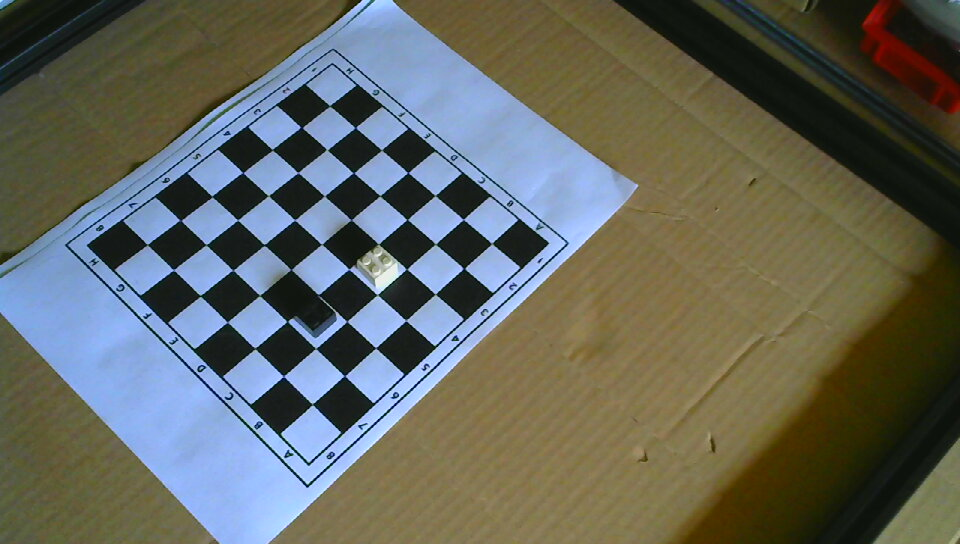bp: (295, 295, 338, 338)
wp: (355, 242, 402, 288)
